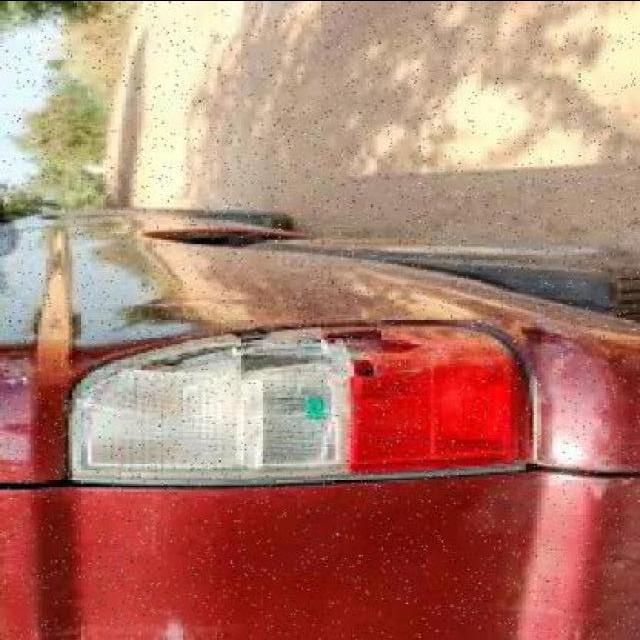Taillight-Damage: (49, 307, 567, 518)
